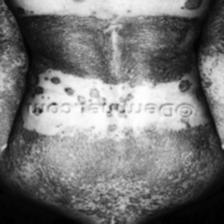Non-Cancerous Skin Condition: (19, 0, 204, 104), (14, 118, 215, 184), (202, 12, 224, 58)
